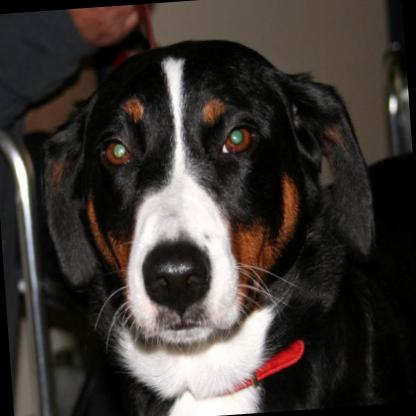Appenzeller: (27, 21, 407, 416)
